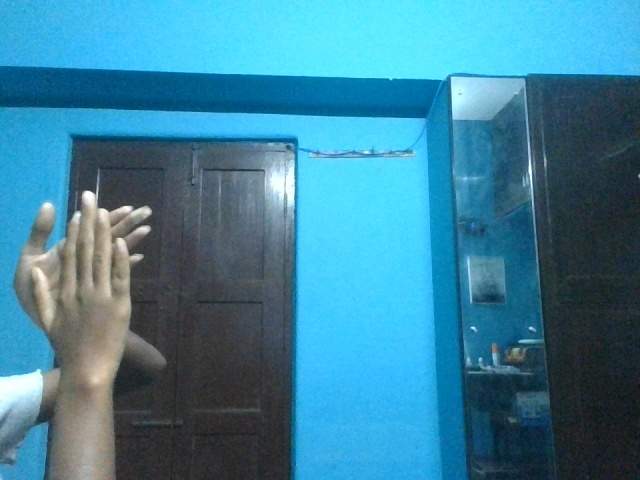H: (10, 186, 159, 369)
